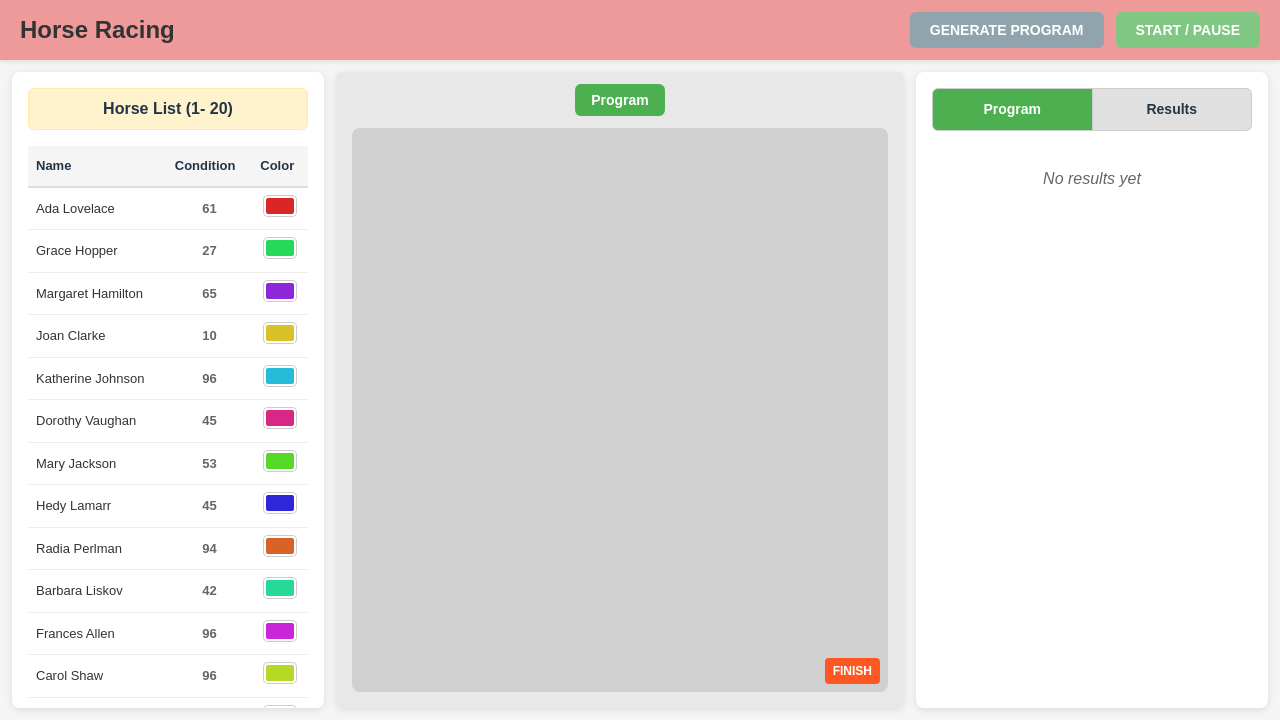
Scenario: Horse Racing Game › should pause and resume racing
The width and height of the screenshot is (1280, 720).
Generate and start race
Step 1. Click the button with class "btn-generate" → (1007,30), box [910,12,1104,48]
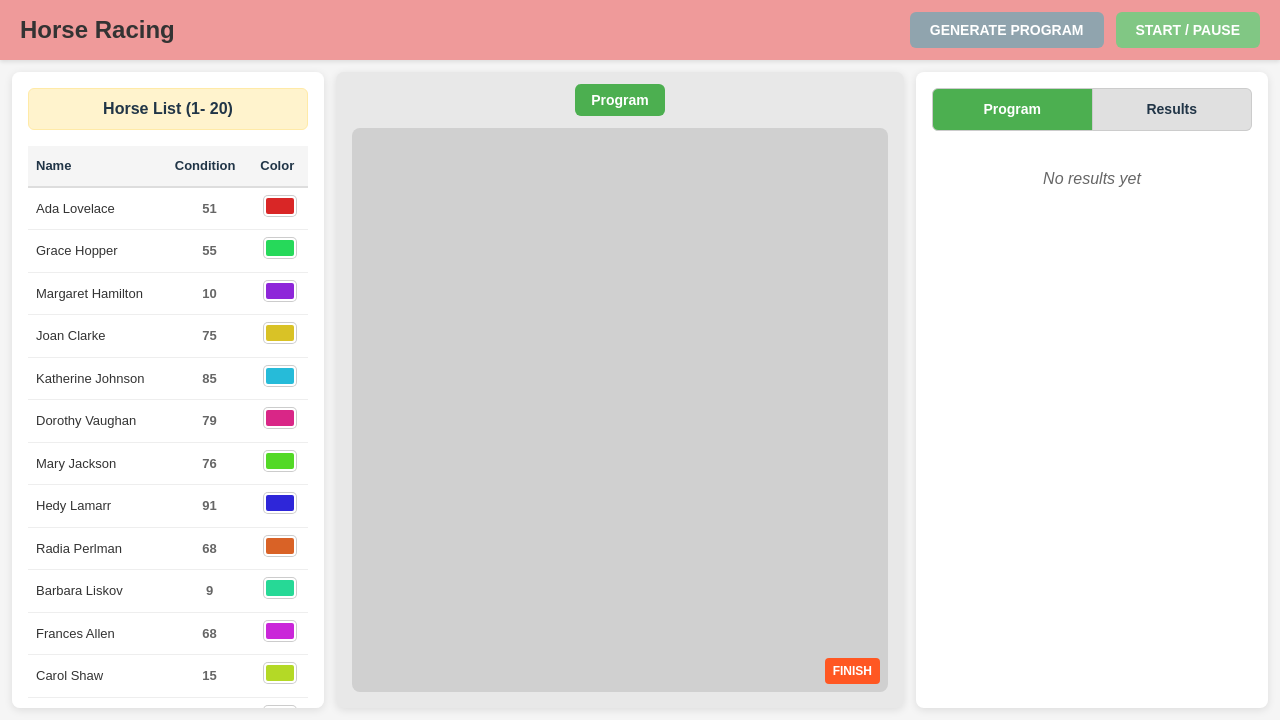
Step 2. Click the button with class "btn-start" → (1189,30), box [1116,12,1261,48]
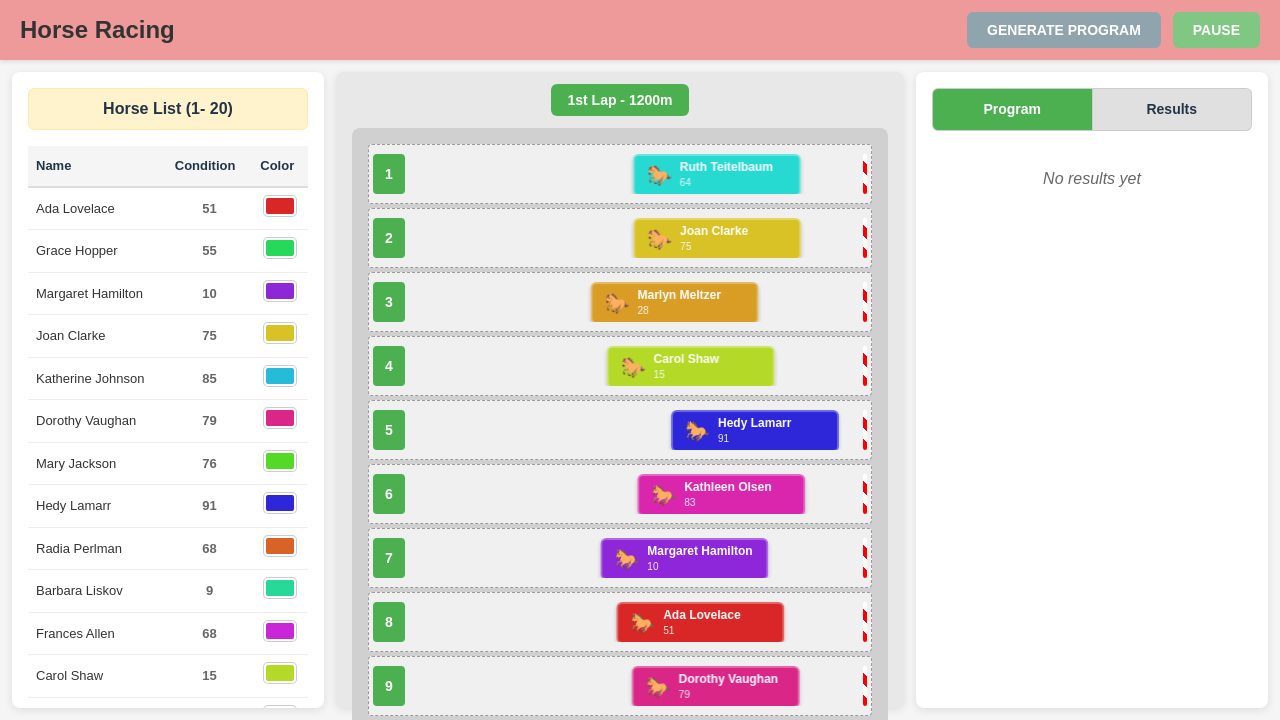
Step 3. Click the button with class "btn-start" → (1217,30), box [1173,12,1260,48]
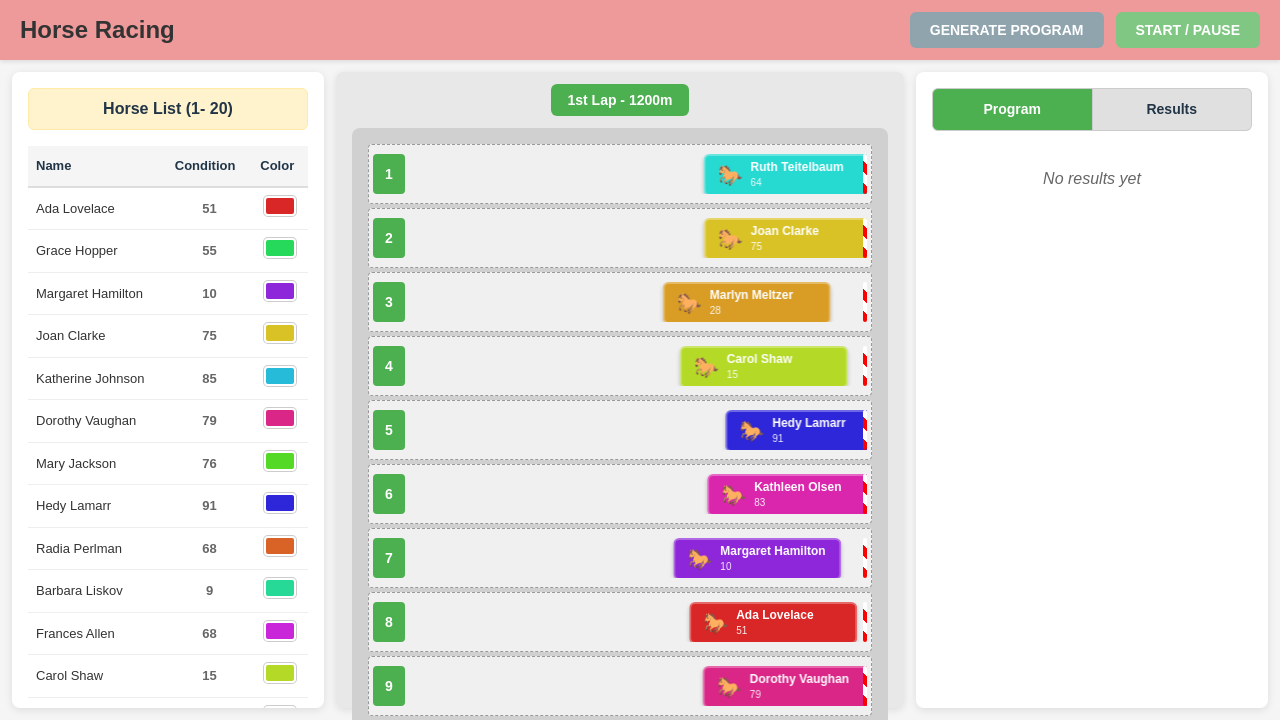
Now the button with class "btn-start" reads "START / PAUSE"
Resume racing
Step 4. Click the button with class "btn-start" → (1189,30), box [1116,12,1261,48]
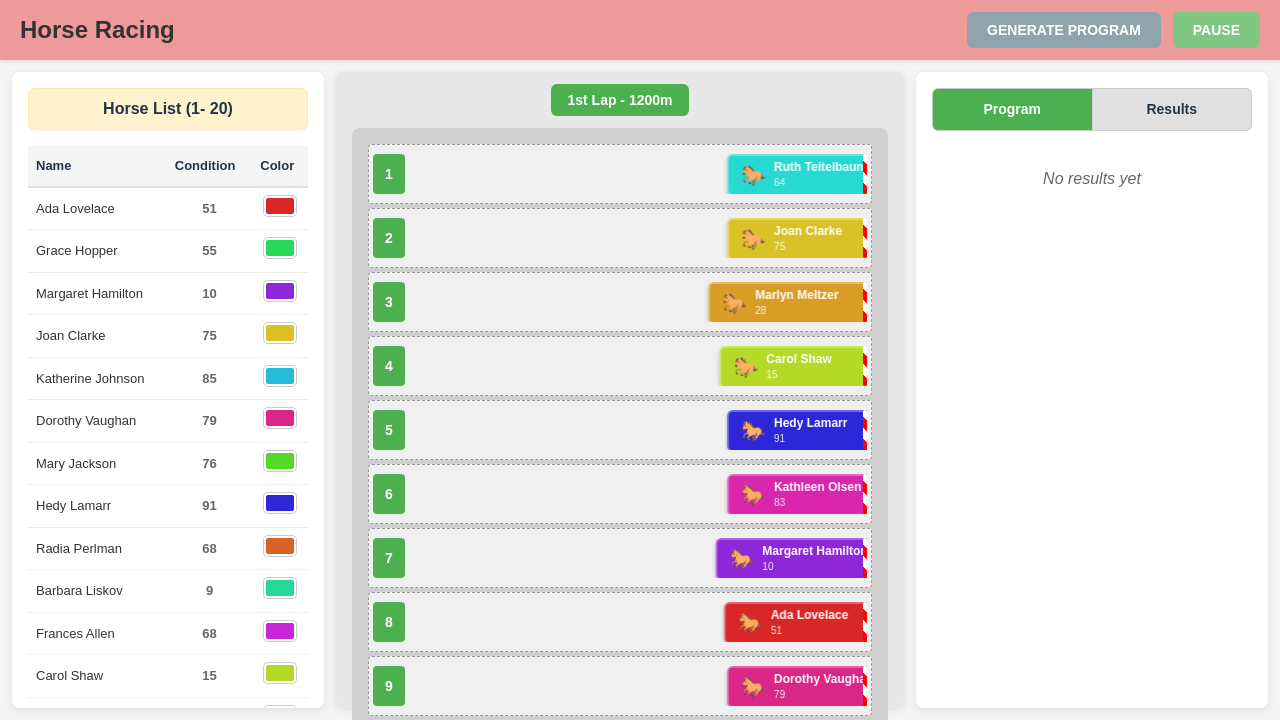
Now the button with class "btn-start" reads "PAUSE", box [1173,12,1260,48]
